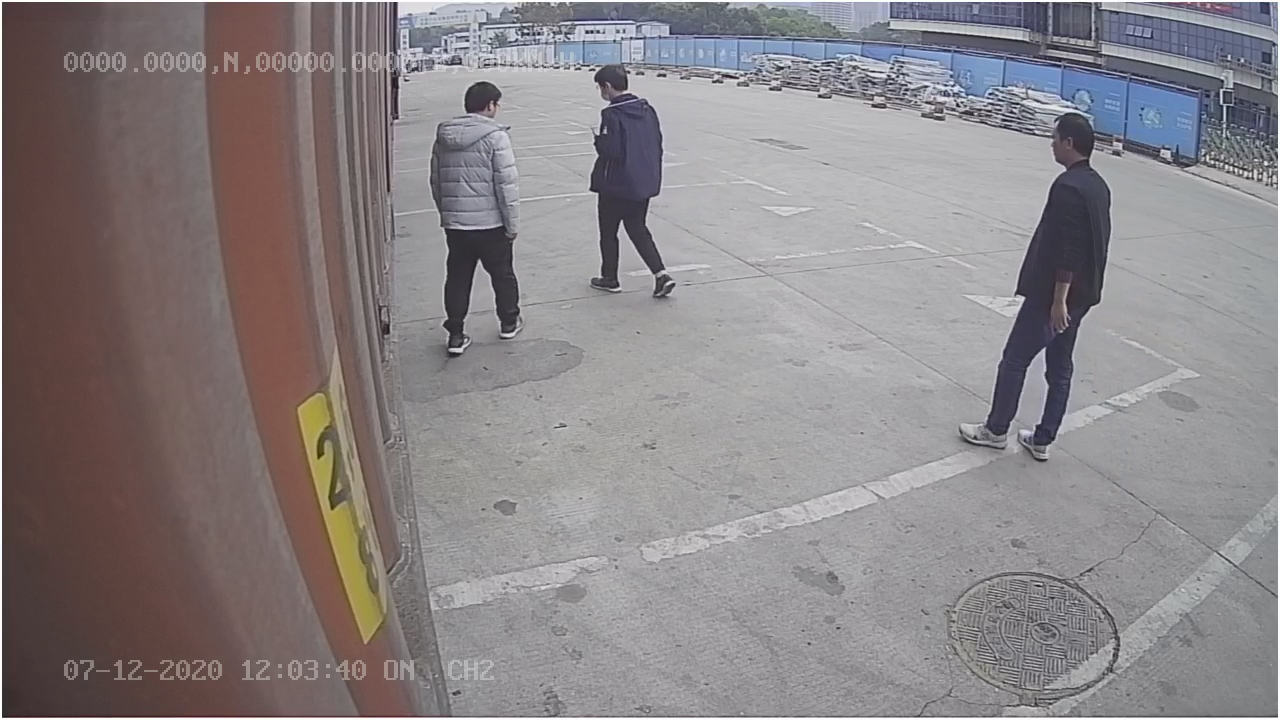person: (952, 96, 1117, 464), (424, 76, 532, 353), (572, 54, 681, 301)
